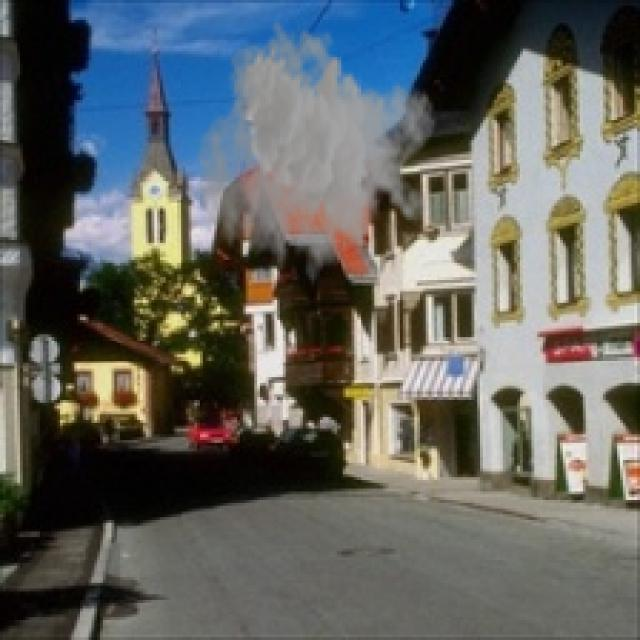Smoke: (194, 17, 437, 294)
